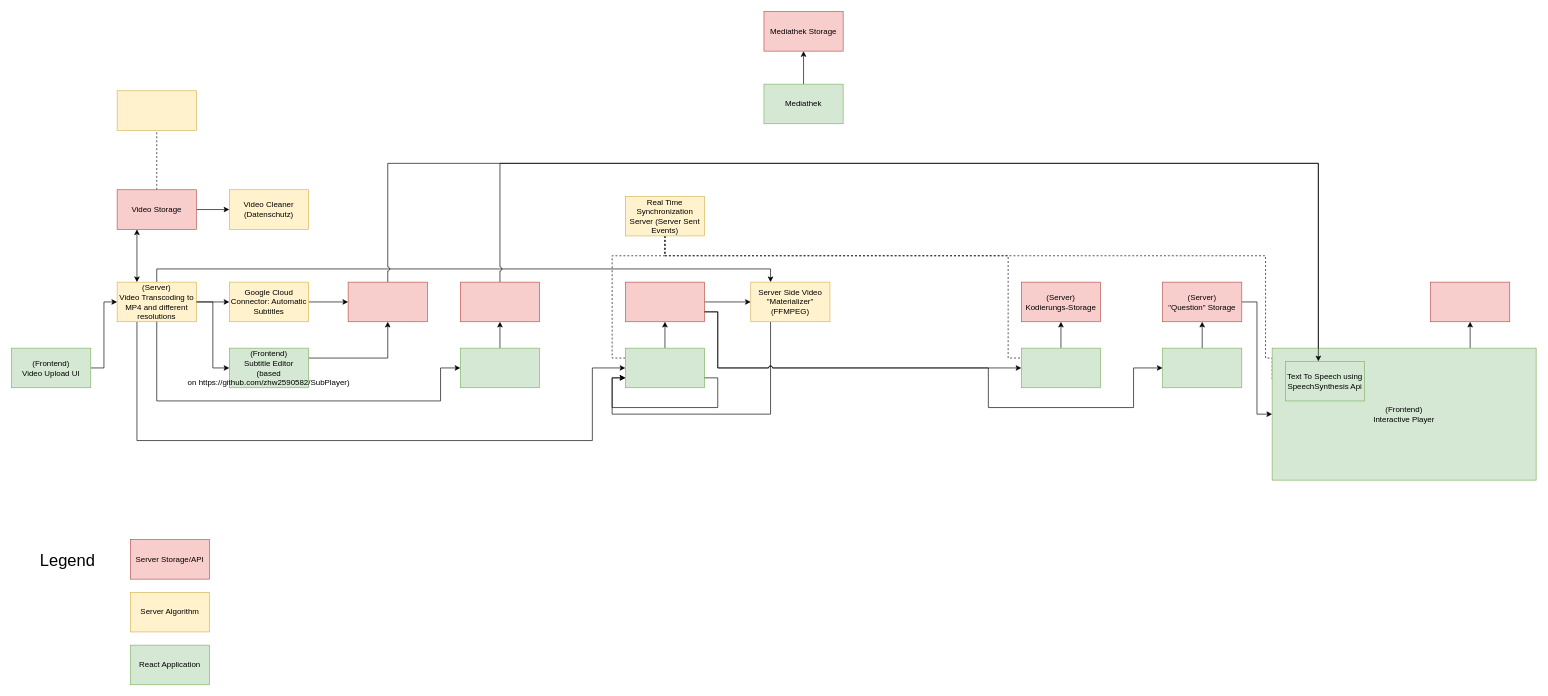
Image size: 1548x696. Some labels were removed from this diagram. Here are the shapes that lost their labels. From the top down, the centre of each, then its label:
pixel 156 110: Permission and Access Layer (Integrated with ILIAS) / Provenance
pixel 387 301: (Server) Subtitle Storage
pixel 500 301: (Server) Transcript Storage
pixel 665 301: (Server) Cut List Storage
pixel 1470 301: (Server) Question Reply Storage
pixel 500 367: (Frontend) Transcript Editor ...based on SubPlayer extended
pixel 665 367: (Frontend) Video Editor
pixel 1061 367: (Frontend) "Kodierungs-UI"
pixel 1202 367: (Frontend) Interactive Player Configurator
